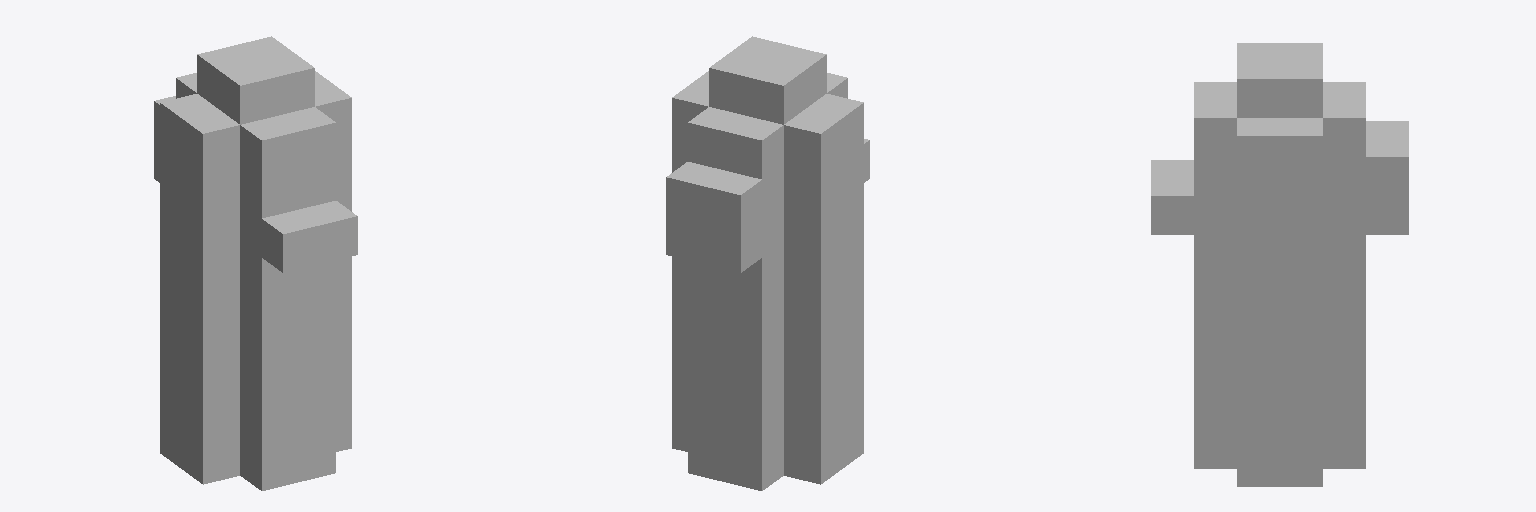
Rendered from Mdl_HumanKeeper_6.obj.
The picture shows the model from 3 angles: view 1: azimuth 30°, elevation 25°; view 2: azimuth 150°, elevation 25°; view 3: azimuth 270°, elevation 25°; orthographic projection.
Visible parts, largest first — view 1: Mdl_HumanKeeper_6; view 2: Mdl_HumanKeeper_6; view 3: Mdl_HumanKeeper_6.
Part boxes in pixels (bbox=[...]): Mdl_HumanKeeper_6: bbox=[154, 36, 357, 490]; Mdl_HumanKeeper_6: bbox=[666, 36, 869, 490]; Mdl_HumanKeeper_6: bbox=[1151, 43, 1408, 486].
Bounding box in the file's own units: 4 × 10 × 6.